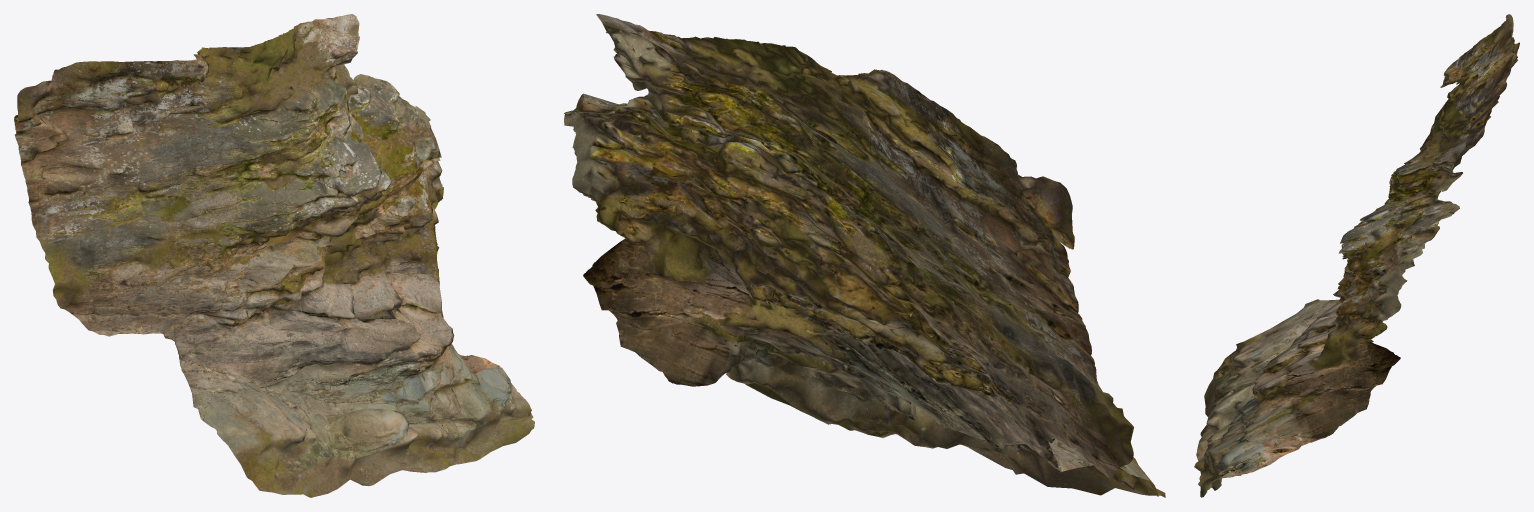
File: prop_outcrop_face_b.glb
The picture shows the model from 3 angles, left to right: view 1: azimuth 30°, elevation 25°; view 2: azimuth 150°, elevation 25°; view 3: azimuth 270°, elevation 25°; orthographic projection. The views are drawn at different scales.
Parts seen in each view (by area): view 1: rock_face_02; view 2: rock_face_02; view 3: rock_face_02.
Boxes of the visible parts, x1,y1,x2,y2 form: rock_face_02: (14,14,534,497); rock_face_02: (564,14,1165,497); rock_face_02: (1194,14,1519,497).
Bounding box in the file's own units: 2.71 × 2.48 × 2.13.
1 material, 1 textured.
